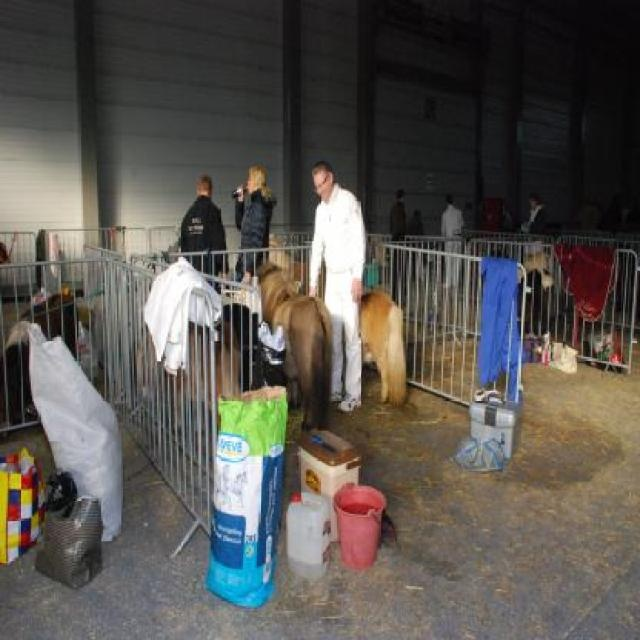obstacle: (305, 160, 369, 411), (177, 169, 231, 286), (234, 160, 278, 278), (437, 190, 465, 288), (530, 192, 555, 242), (389, 181, 408, 244)
